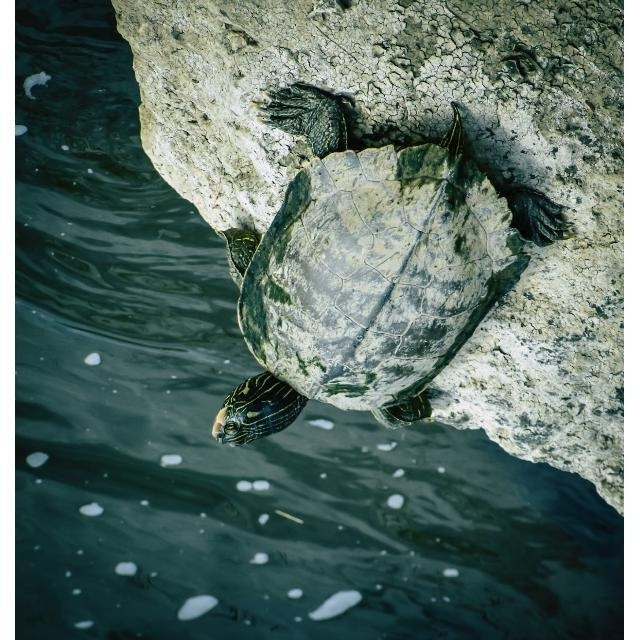turtle: (210, 82, 576, 450)
